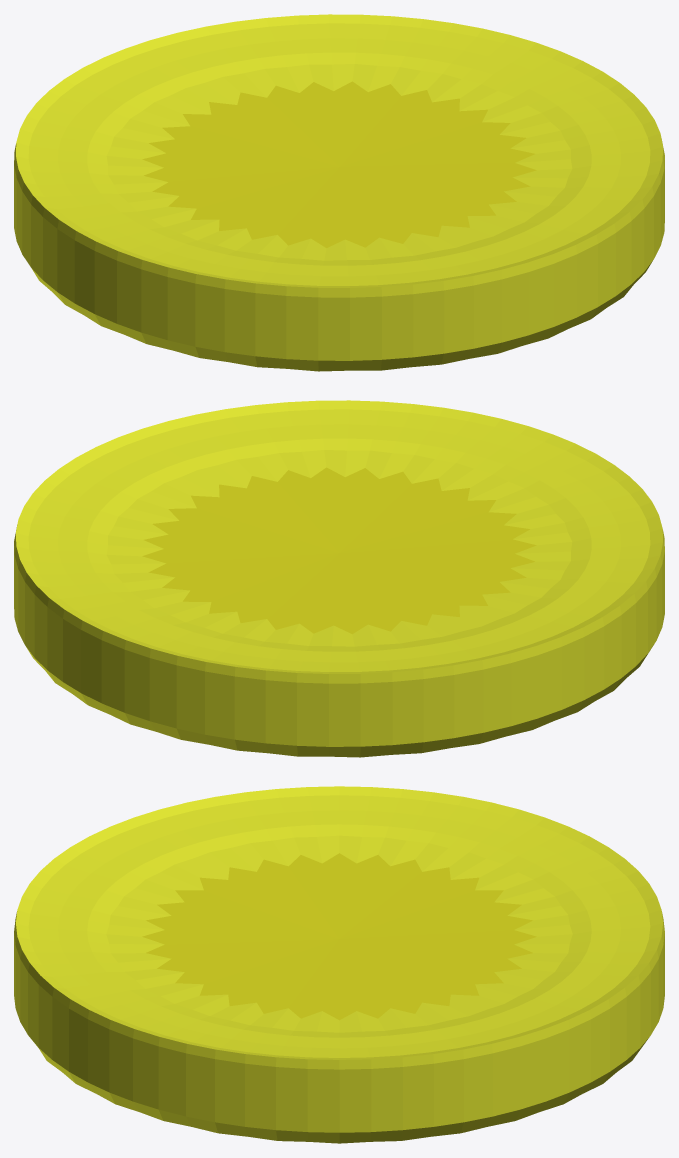
Rendered from tortilla.fbx.
3 views of the same model, one above another, from view 1: azimuth 30°, elevation 25°; view 2: azimuth 150°, elevation 25°; view 3: azimuth 270°, elevation 25° (orthographic).
Visible parts, largest first — view 1: Cylinder; view 2: Cylinder; view 3: Cylinder.
Boxes of the visible parts, left/top/right/bottom form: Cylinder: left=14, top=14, right=664, bottom=371; Cylinder: left=14, top=400, right=664, bottom=757; Cylinder: left=14, top=786, right=664, bottom=1143.
Size of the model in its own units: 59.62 by 8.95 by 59.62.
